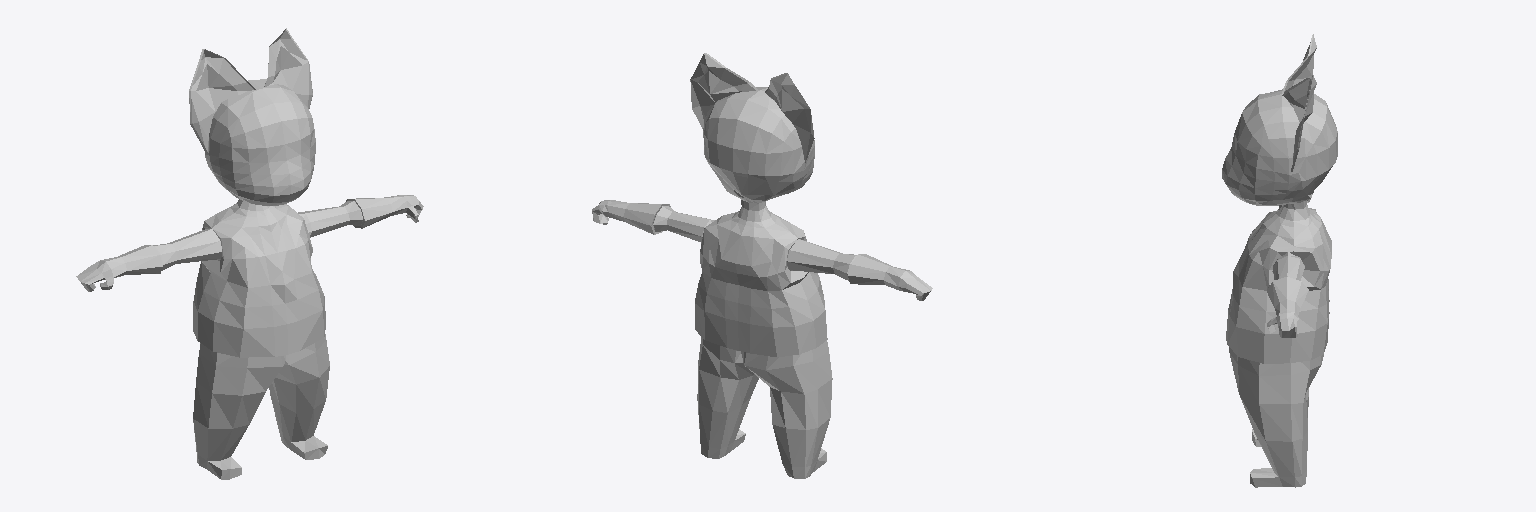
File: Player.obj
3 views of the same model, side by side, from view 1: azimuth 30°, elevation 25°; view 2: azimuth 150°, elevation 25°; view 3: azimuth 270°, elevation 25° (orthographic).
Parts seen in each view (by area): view 1: polySurface15; view 2: polySurface15; view 3: polySurface15.
Boxes of the visible parts, <box> form: polySurface15: <box>76,28,423,479</box>; polySurface15: <box>592,53,932,478</box>; polySurface15: <box>1222,34,1337,487</box>.
Bounding box in the file's own units: 7.23 × 8.3 × 2.15.